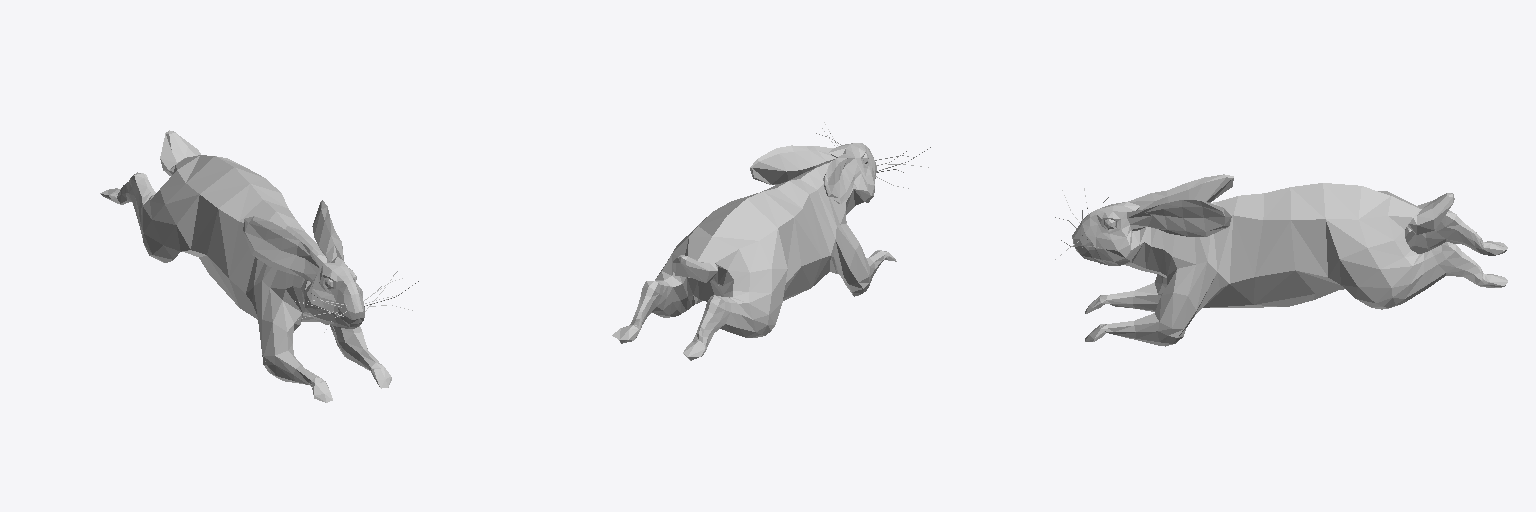
Rendered from rabbit_000007.obj.
The picture shows the model from 3 angles: view 1: azimuth 30°, elevation 25°; view 2: azimuth 150°, elevation 25°; view 3: azimuth 270°, elevation 25°; orthographic projection.
Visible parts, largest first — view 1: Rabbit_Cylinder; view 2: Rabbit_Cylinder; view 3: Rabbit_Cylinder.
Part boxes in pixels (x1,y1,x2,y2): Rabbit_Cylinder: (100, 130, 418, 402); Rabbit_Cylinder: (612, 122, 930, 360); Rabbit_Cylinder: (1055, 174, 1507, 346).
Size of the model in its own units: 7.04 by 8.67 by 24.55.